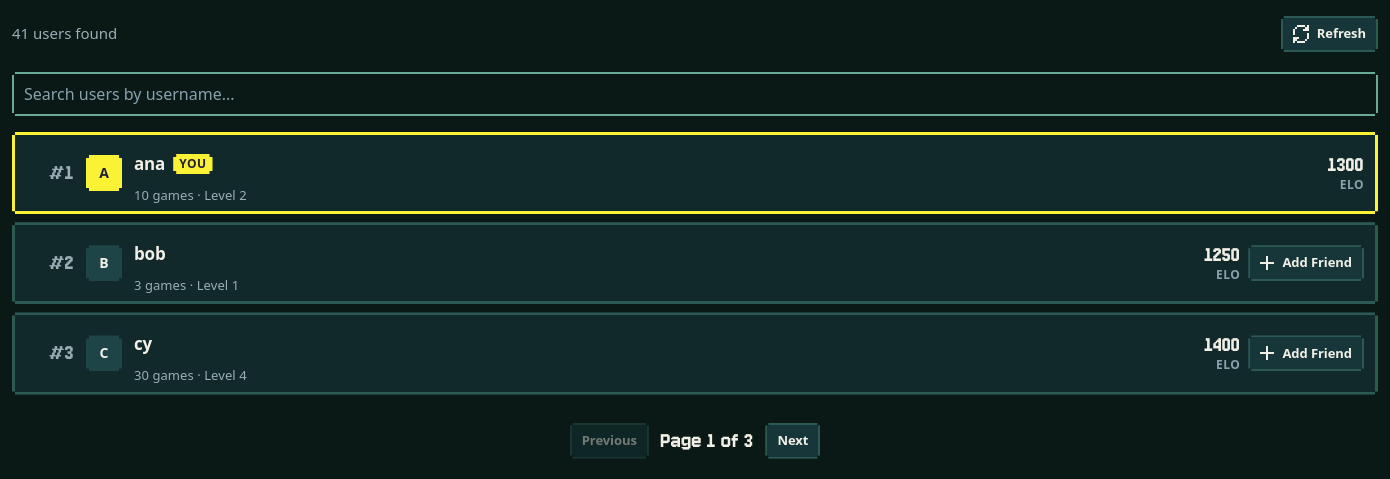
Test: UserList (server-side paging and search) › Next asks the server for the next page
The image size is (1390, 479).
Click the button "Next" at (793, 441), box [765,419,820,463]
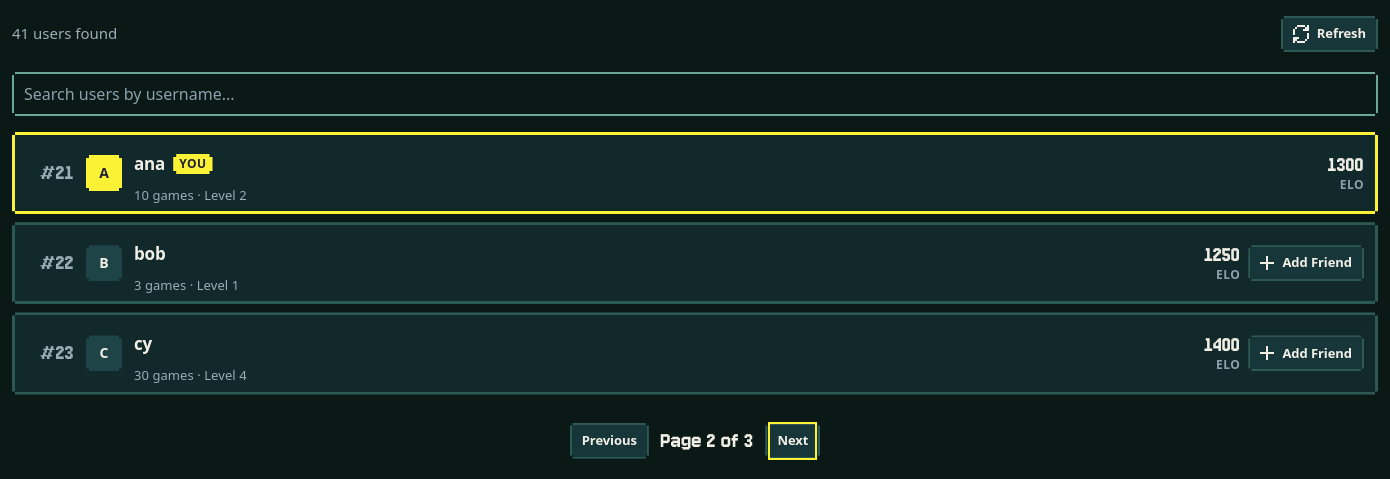
Result: the text "Page 2 of 3" is shown at [661,429,753,453]
